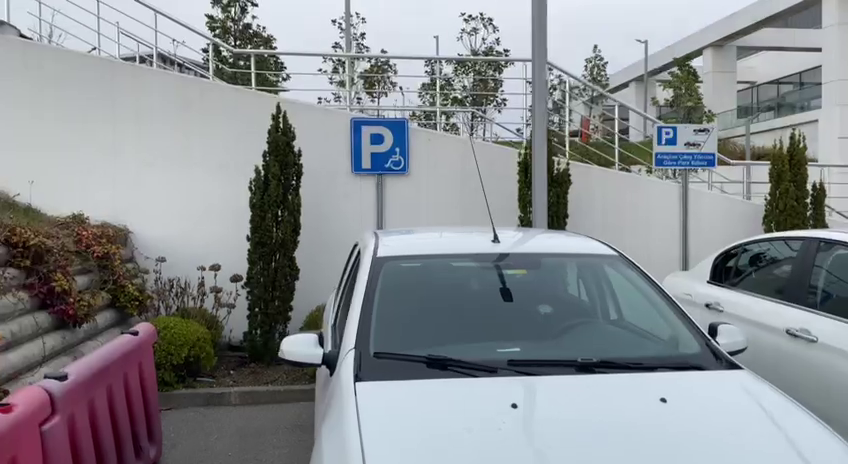parking: (349, 116, 410, 176), (655, 124, 679, 148)
